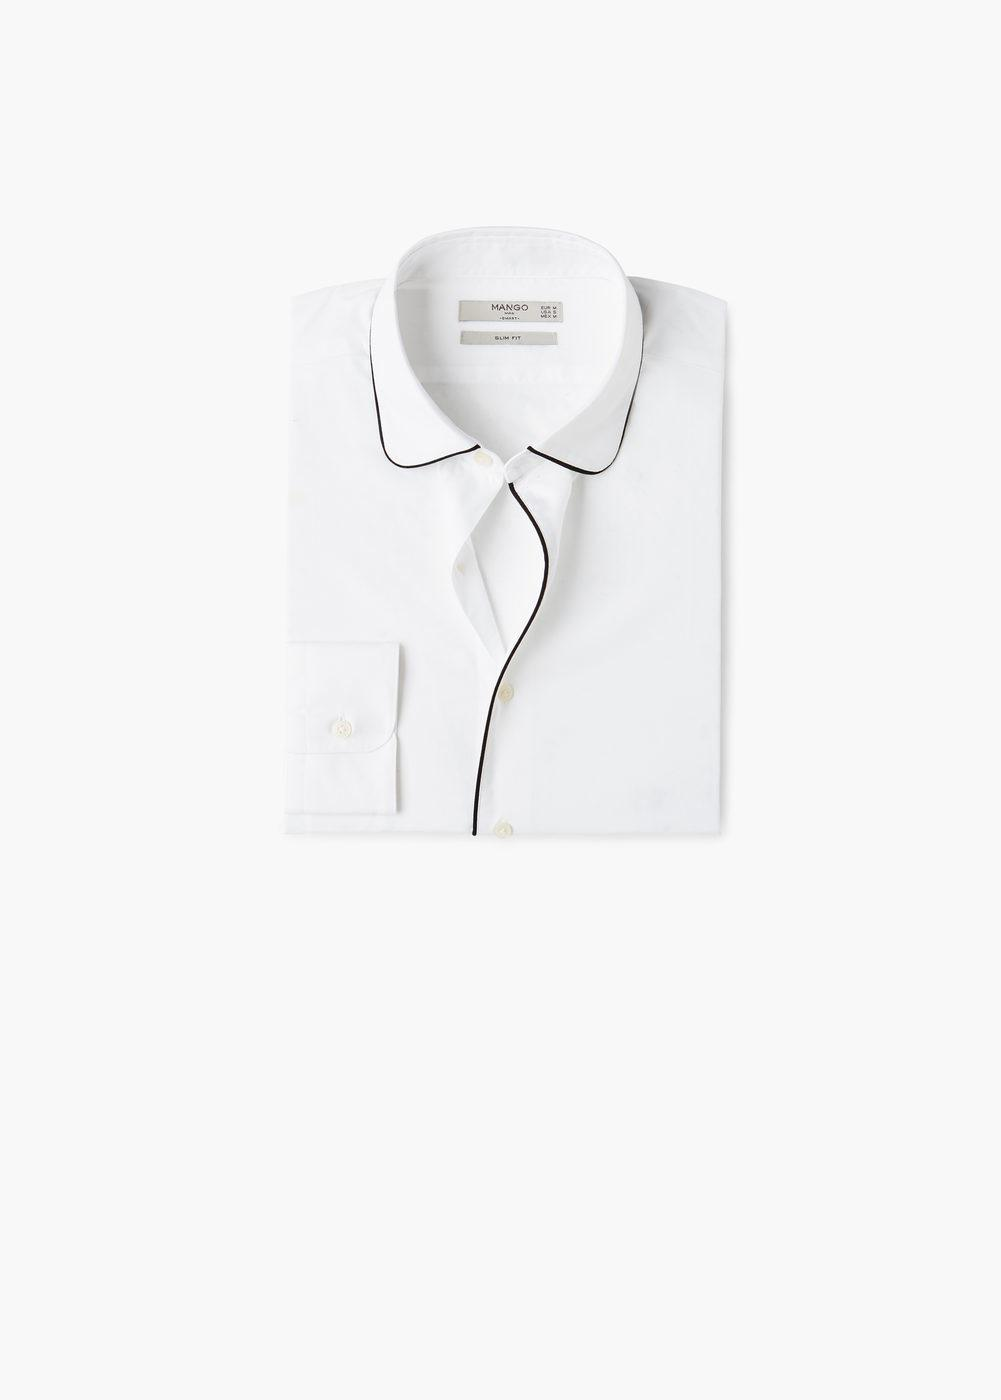teeshirt: (255, 214, 782, 893)
